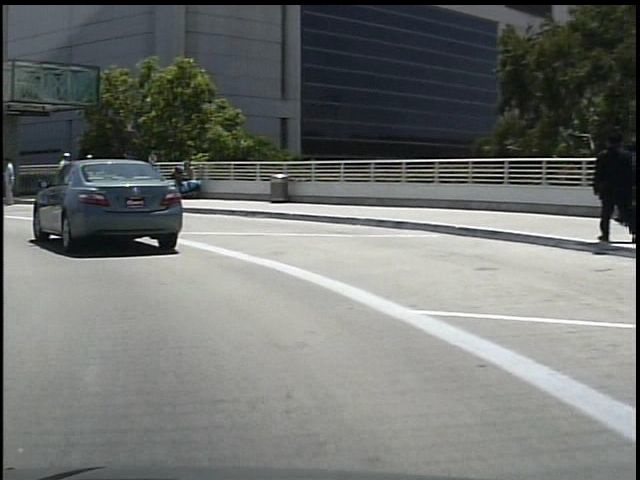person: (579, 124, 633, 251), (78, 150, 98, 202), (52, 148, 72, 200)
